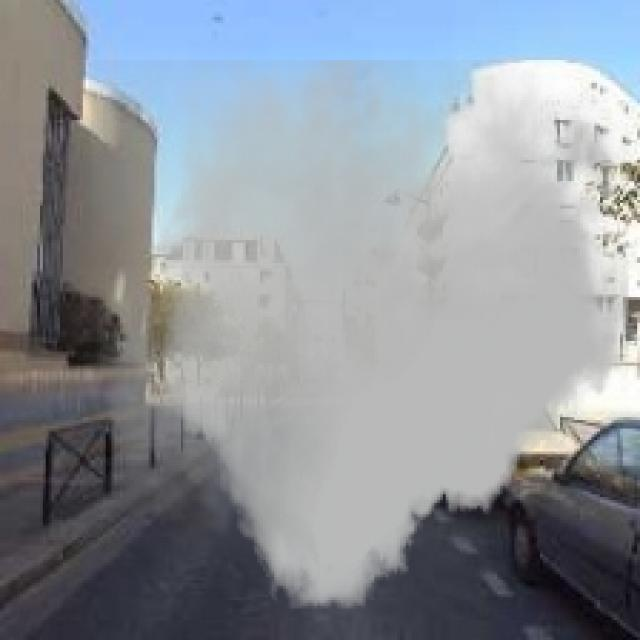Smoke: (92, 60, 638, 609)
